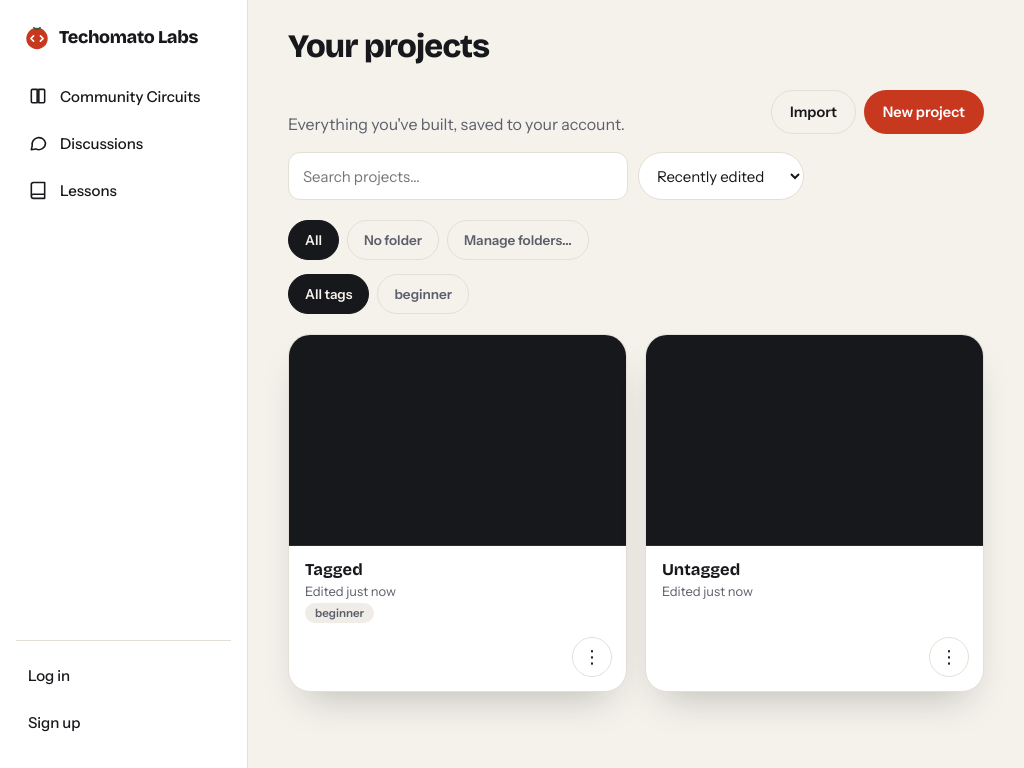
Test: ProjectsPage › shows tag chips only when projects have tags, and filters by tag
Expected: the link "Tagged" is shown, [305,560,363,579]
Expected: the button "All tags" is shown, [288,274,369,314]
Click the button "beginner" at (423, 294), box [377,274,469,314]
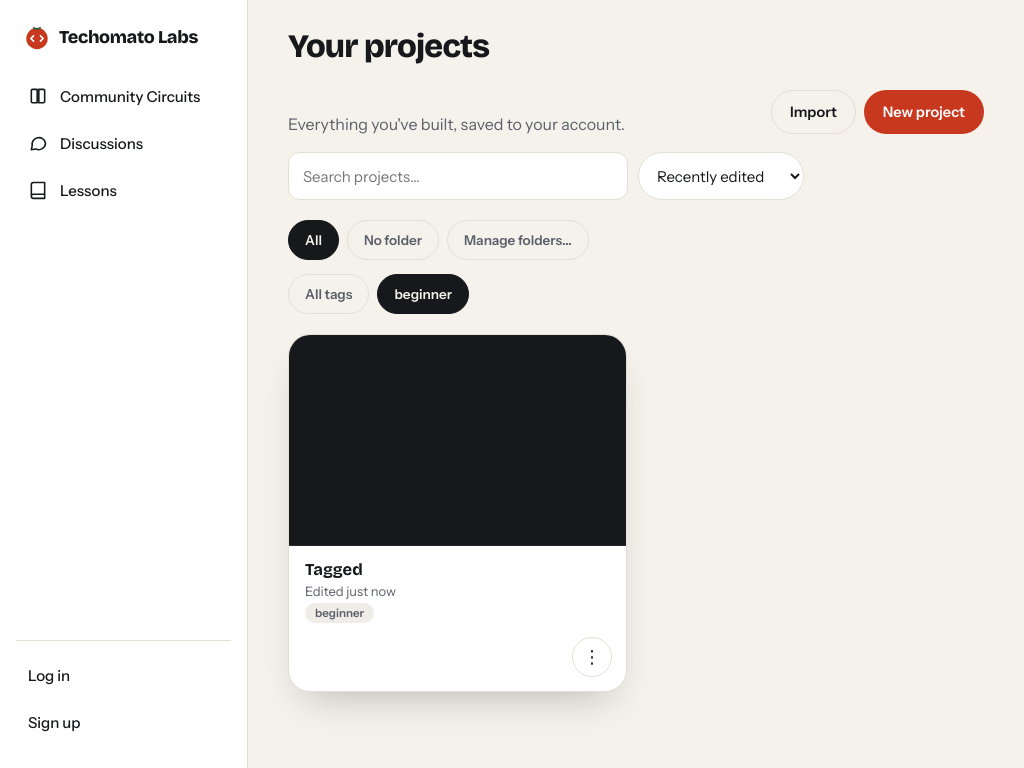
Expected: the link "Tagged" is shown, [305,560,363,579]
Expected: the link "Untagged" is gone
